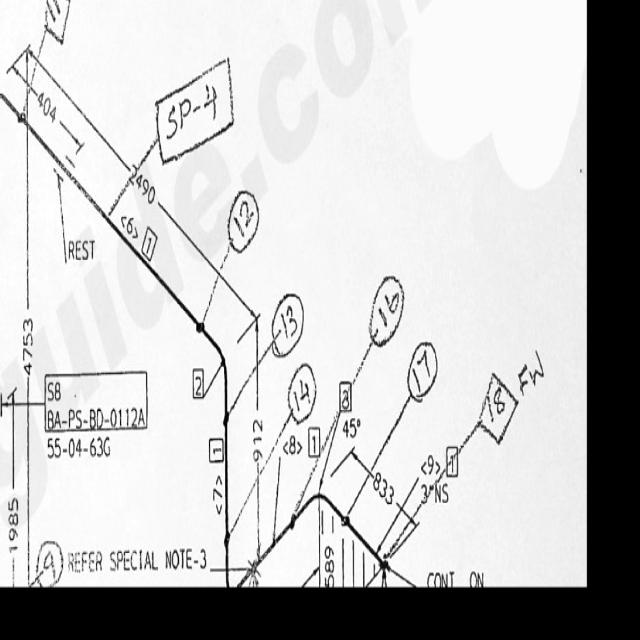Item number: (42, 364, 150, 436), (138, 223, 159, 264), (191, 364, 208, 403), (444, 442, 461, 479), (308, 424, 322, 461), (339, 378, 352, 414), (208, 435, 223, 466)
Measrement: (28, 48, 252, 313), (20, 47, 36, 586), (8, 55, 88, 159), (347, 439, 419, 529), (246, 312, 266, 563), (365, 271, 405, 352), (9, 456, 20, 580), (280, 428, 317, 463), (418, 477, 451, 508), (340, 412, 363, 443)
Pipeline: (0, 78, 395, 588), (242, 476, 412, 578)
Symbol: (193, 307, 234, 426), (290, 487, 351, 541), (218, 540, 262, 586)
Weld number: (474, 357, 523, 452), (368, 269, 407, 352), (269, 287, 305, 359), (224, 185, 261, 255), (405, 335, 440, 403), (285, 359, 318, 426), (39, 1, 76, 50), (35, 538, 65, 577)
other: (44, 433, 113, 463), (61, 232, 98, 271)
